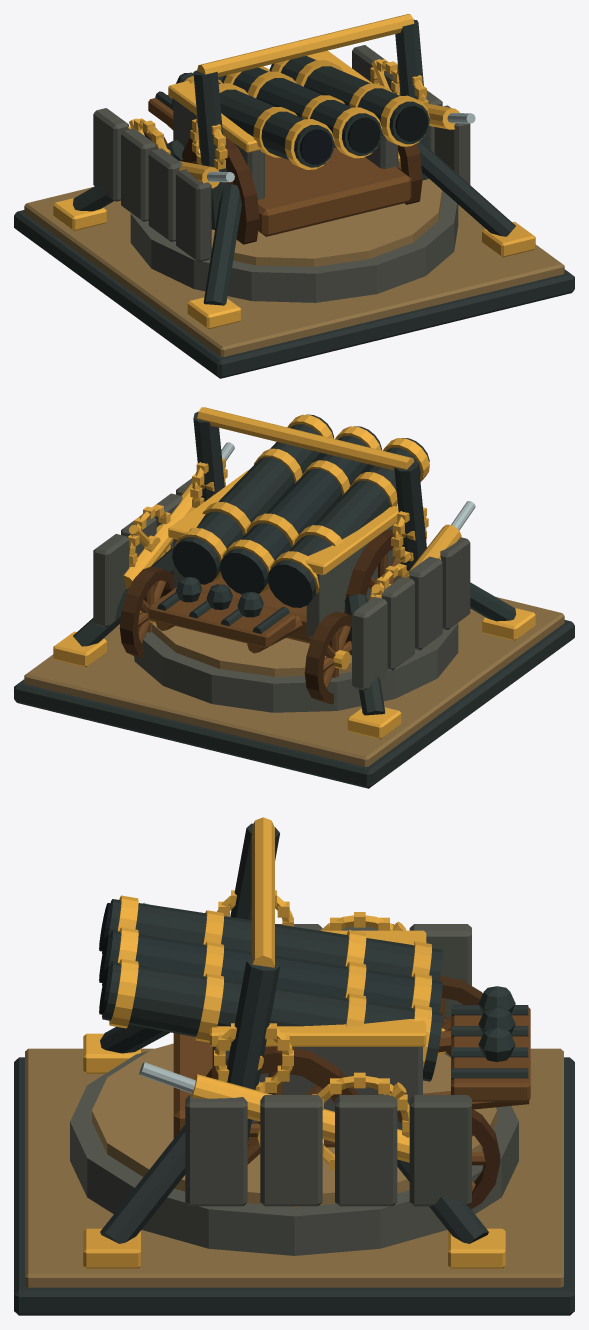
3 renders of one model, top to bottom at view 1: azimuth 30°, elevation 25°; view 2: azimuth 150°, elevation 25°; view 3: azimuth 270°, elevation 25°, orthographic. The views are drawn at different scales.
Visible parts, largest first — view 1: cannon_level11_structure, cannon_level11_metal; view 2: cannon_level11_structure, cannon_level11_metal; view 3: cannon_level11_structure, cannon_level11_metal.
Part boxes in pixels (bbox=[...]): cannon_level11_structure: bbox=[14, 19, 574, 378]; cannon_level11_metal: bbox=[53, 14, 535, 329]; cannon_level11_structure: bbox=[14, 411, 574, 788]; cannon_level11_metal: bbox=[53, 407, 535, 739]; cannon_level11_structure: bbox=[14, 823, 574, 1315]; cannon_level11_metal: bbox=[83, 817, 505, 1268].
Bounding box in the file's own units: 3.6 × 2.22 × 3.6.
